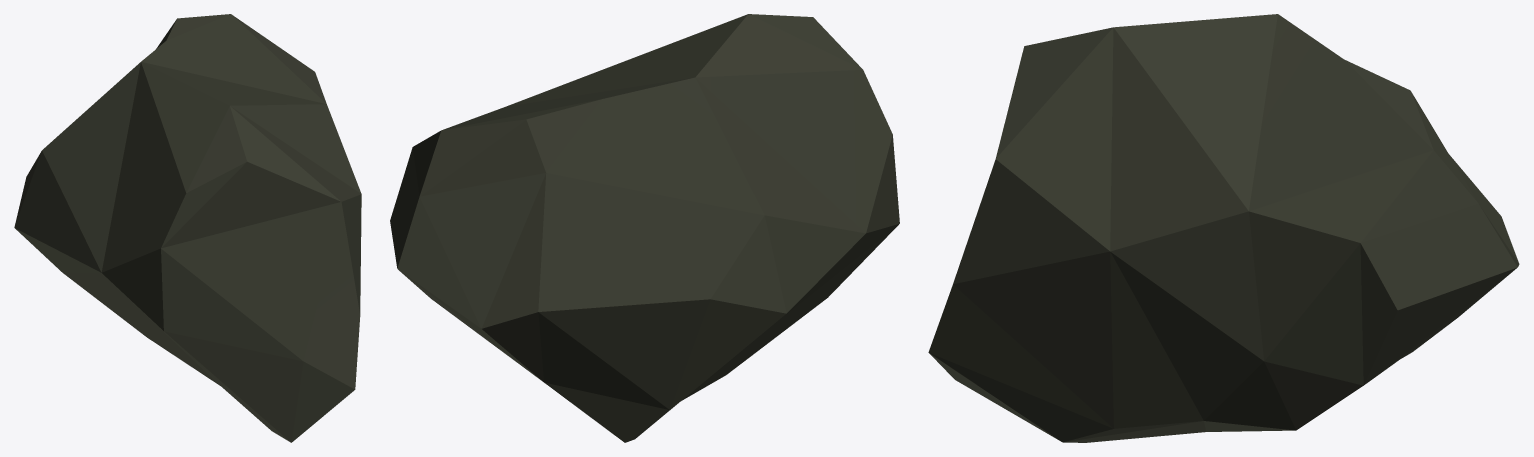
Rendered from Rock4.glb.
The picture shows the model from 3 angles, left to right: view 1: azimuth 30°, elevation 25°; view 2: azimuth 150°, elevation 25°; view 3: azimuth 270°, elevation 25°; orthographic projection. The views are drawn at different scales.
Parts seen in each view (by area): view 1: Rock4; view 2: Rock4; view 3: Rock4.
Boxes of the visible parts, x1=… form: Rock4: x1=14, y1=14, x2=361, y2=442; Rock4: x1=390, y1=14, x2=899, y2=442; Rock4: x1=928, y1=14, x2=1519, y2=442.
Bounding box in the file's own units: 0.4607 × 0.4545 × 0.612.
1 material, 1 textured.
